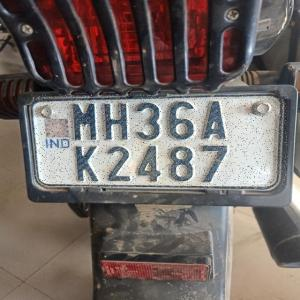Plate: (34, 95, 287, 188)
